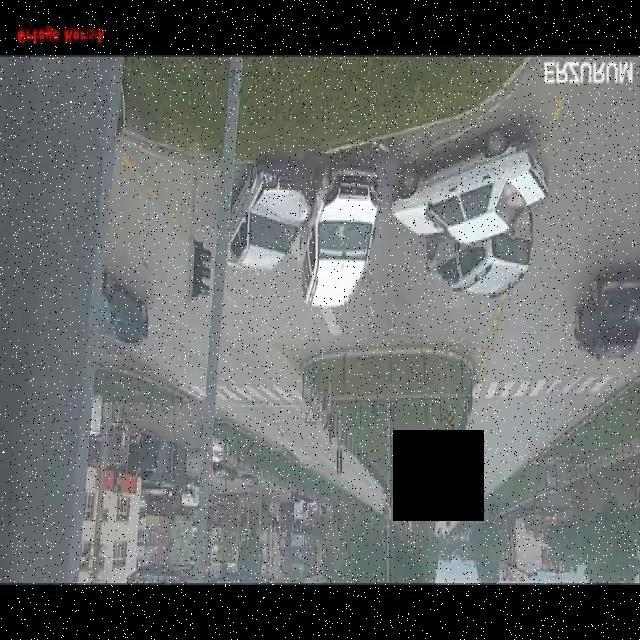moderate: (390, 127, 553, 305), (218, 154, 383, 318)
